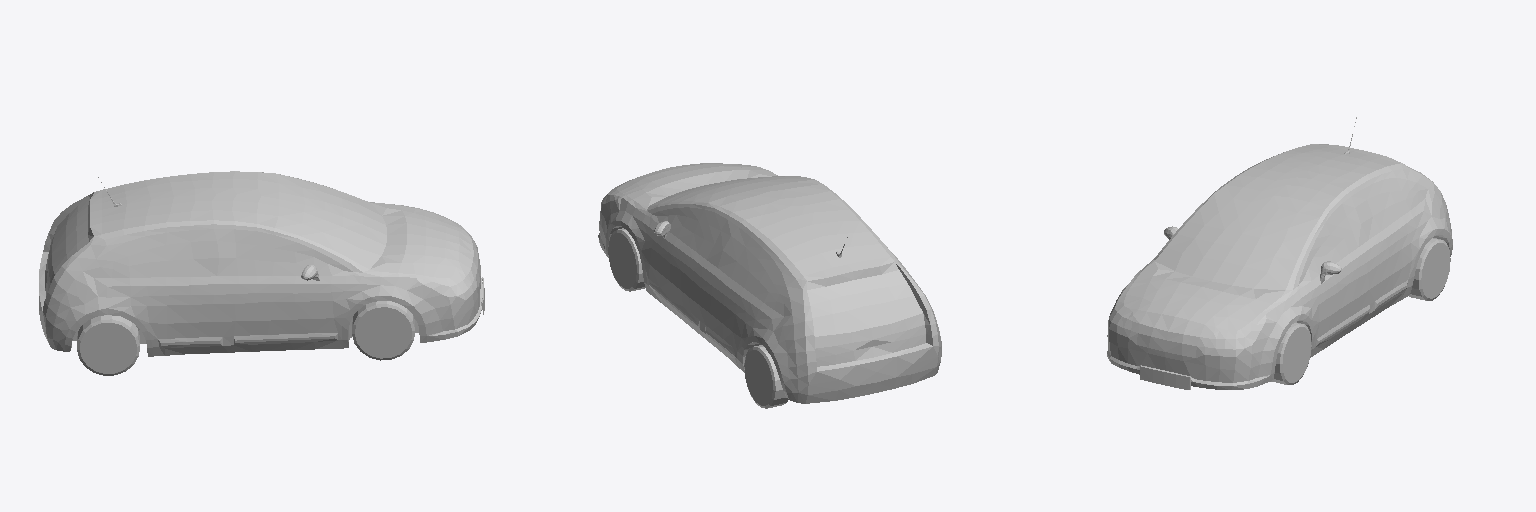
File: carsAI_000105.obj
The picture shows the model from 3 angles: view 1: azimuth 30°, elevation 25°; view 2: azimuth 150°, elevation 25°; view 3: azimuth 270°, elevation 25°; orthographic projection.
Visible parts, largest first — view 1: car_5, tire_8, tire_7; view 2: car_5, tire_6, tire_9; view 3: car_5, tire_6, tire_9.
Boxes of the visible parts, x1,y1,x2,y2 form: car_5: [39, 171, 484, 356]; tire_8: [77, 315, 139, 375]; tire_7: [352, 301, 414, 360]; car_5: [598, 163, 941, 403]; tire_6: [744, 345, 788, 408]; tire_9: [608, 228, 644, 291]; car_5: [1107, 117, 1452, 389]; tire_6: [1409, 238, 1450, 300]; tire_9: [1271, 322, 1311, 384].
Size of the model in its own units: 105 by 42.49 by 82.77.